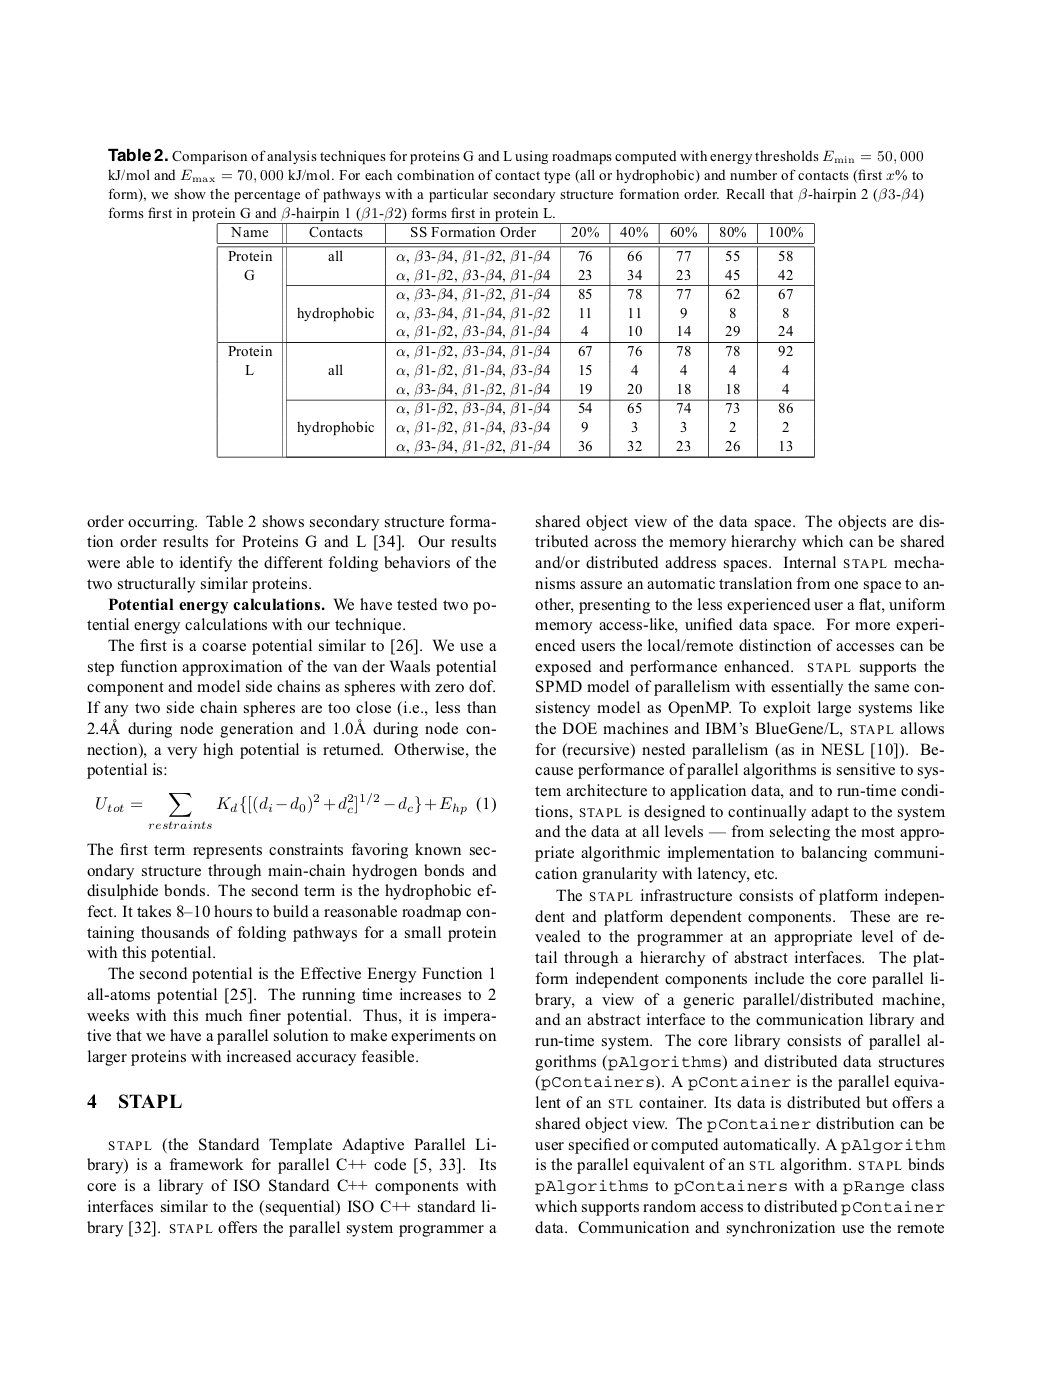Table: (216, 223, 814, 457)
formula: (96, 793, 495, 829)
